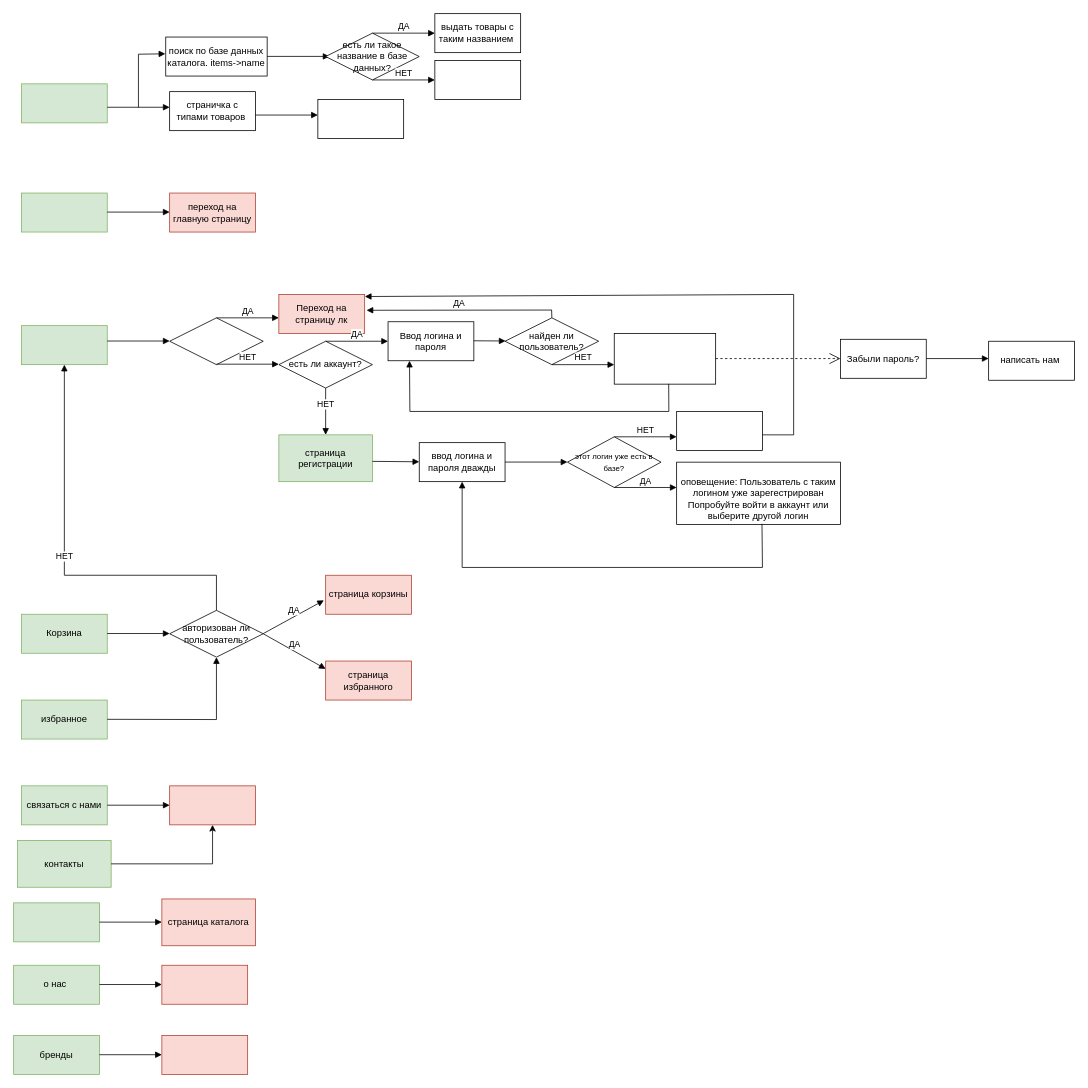
Image size: 1088x1088. Some labels were removed from this diagram. The shapes that lost their labels are listed below. From the top down, each one's box as (x1, y1, x2, y2) in pixels, then its label:
(434, 60, 521, 99): Товар с таким названием не найден
(21, 83, 107, 123): строка поиска
(317, 99, 404, 138): переход на страничку типа товаров
(21, 192, 107, 232): логотип
(21, 325, 107, 365): личный кабинет
(169, 317, 263, 365): авторизован ли на сайте на данный момент
(613, 333, 716, 384): оповещение: пользователь не найден или пароль неверный
(676, 411, 762, 450): добавление пользователя в базу данных
(169, 785, 255, 825): страница контактов
(13, 902, 99, 942): каталог
(161, 964, 248, 1004): страница о нас
(161, 1035, 248, 1074): страница брендов
